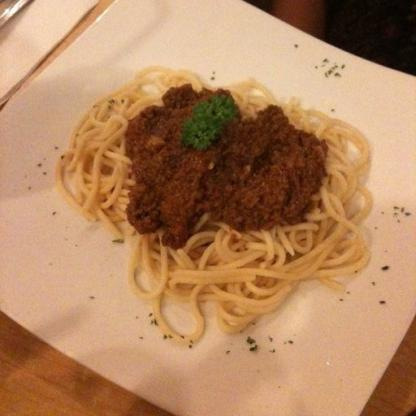pasta: (66, 70, 370, 340)
